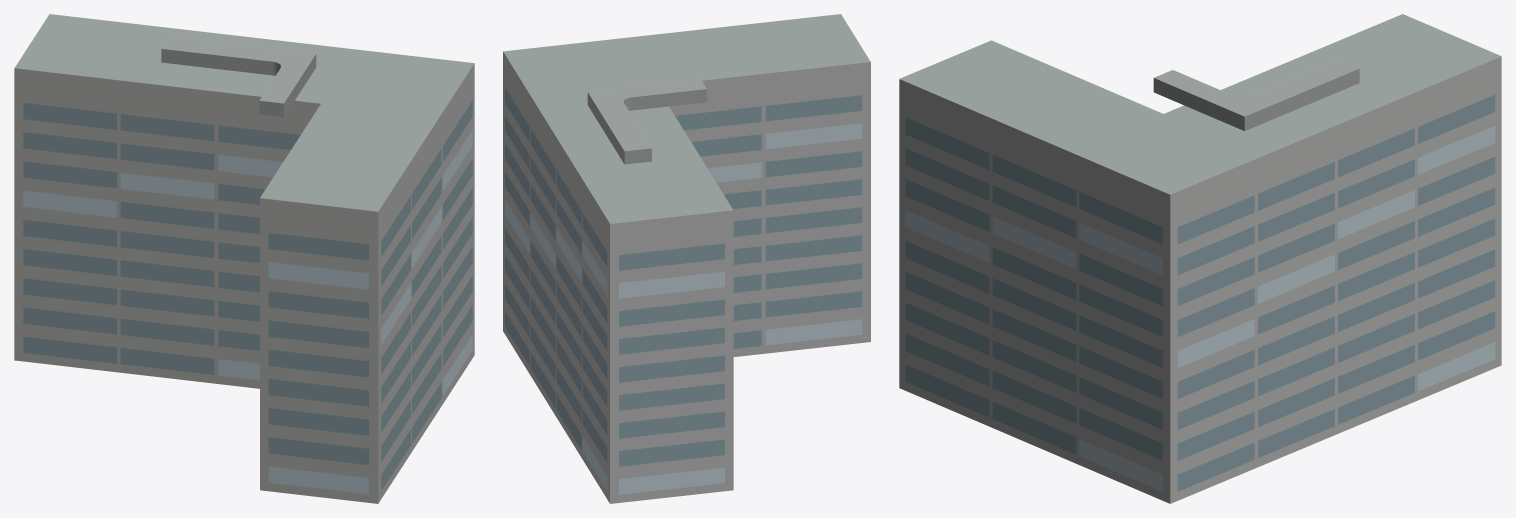
File: fallback-dmc-raemian-e-pyeonhansesang-202.glb
3 views of the same model, side by side, from view 1: azimuth 30°, elevation 25°; view 2: azimuth 150°, elevation 25°; view 3: azimuth 270°, elevation 25° (orthographic). The views are drawn at different scales.
Parts seen in each view (by area): view 1: fallback-dmc-raemian-e-pyeonhansesang-202; view 2: fallback-dmc-raemian-e-pyeonhansesang-202; view 3: fallback-dmc-raemian-e-pyeonhansesang-202.
Boxes of the visible parts, x1,y1,x2,y2 form: fallback-dmc-raemian-e-pyeonhansesang-202: [14, 14, 474, 503]; fallback-dmc-raemian-e-pyeonhansesang-202: [503, 14, 870, 503]; fallback-dmc-raemian-e-pyeonhansesang-202: [899, 14, 1501, 503].
Size of the model in its own units: 35.94 by 30 by 50.62.
